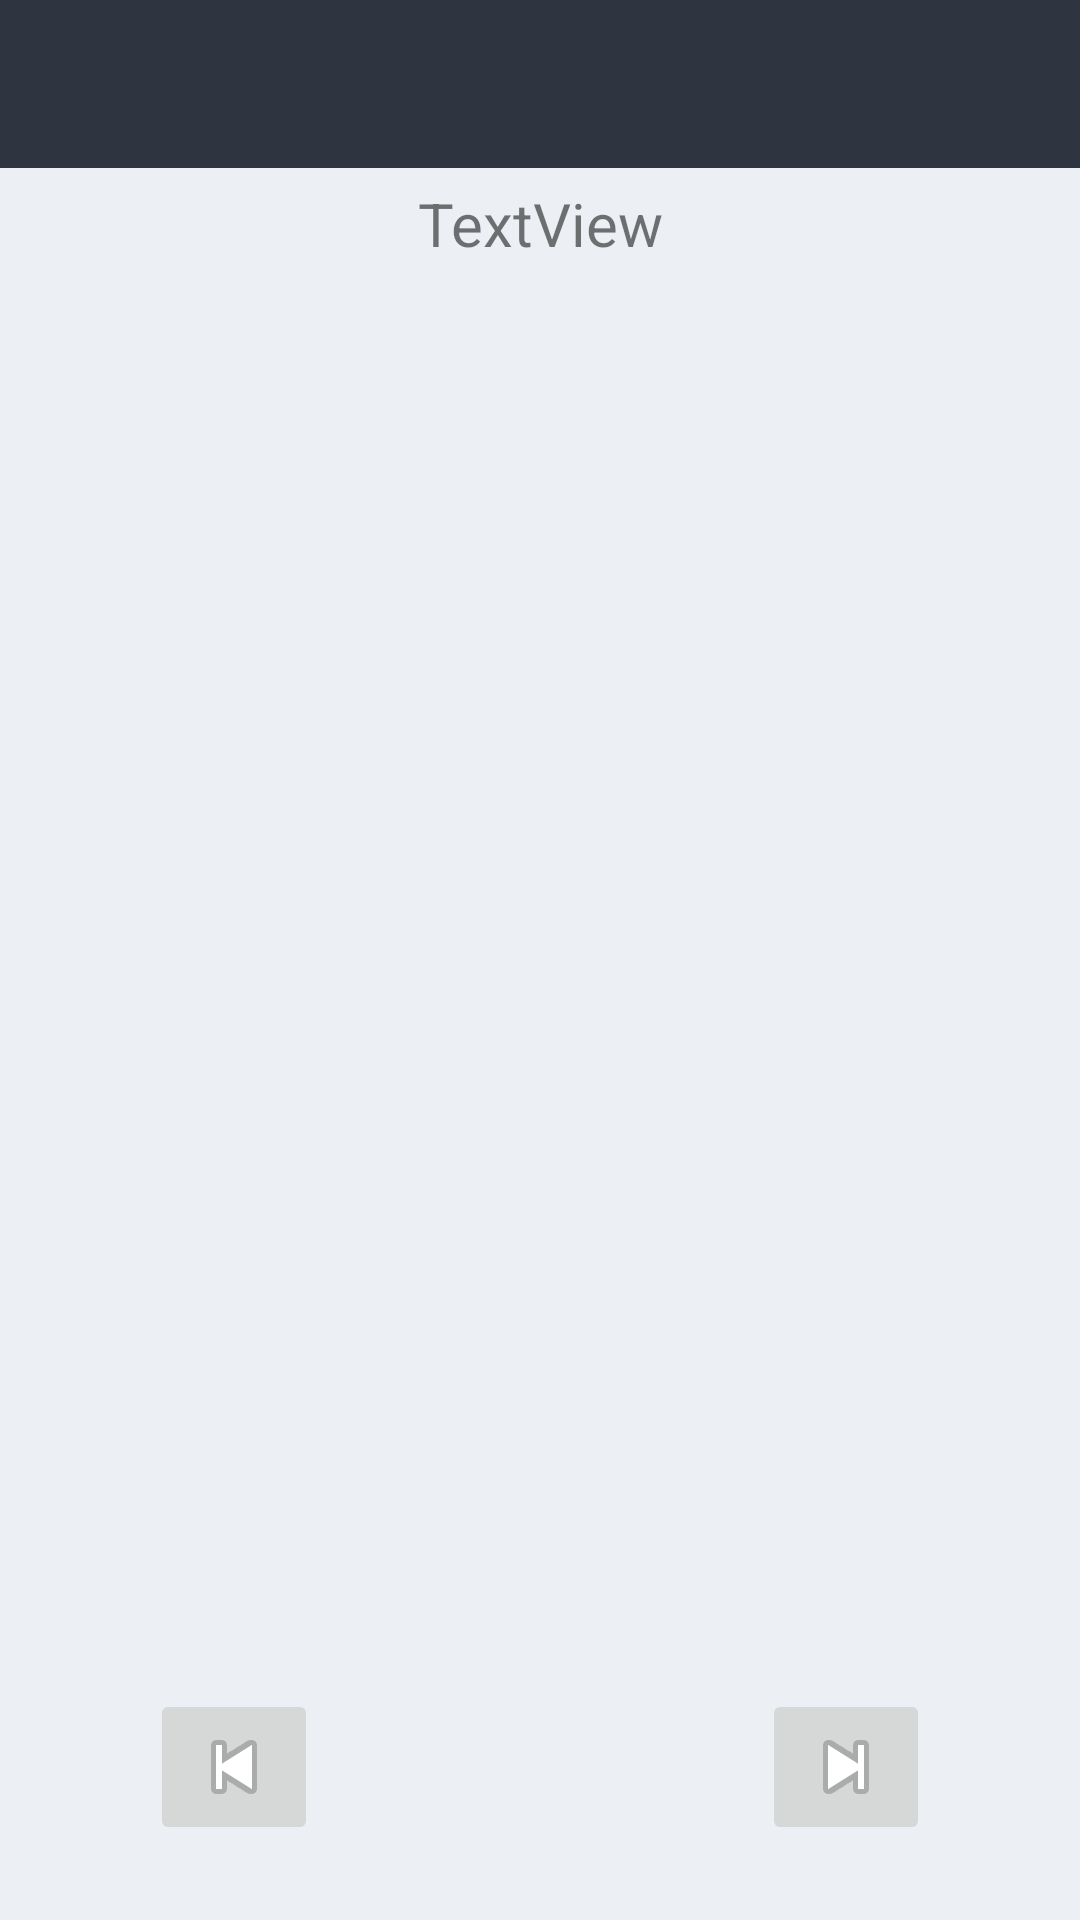

Icons on this 1080×1920 Android screen, each with its box as (x1, y1, x2, y2):
next: (774, 1707, 918, 1827)
previous: (162, 1707, 306, 1827)
